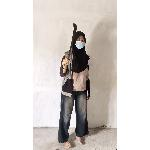Golok: (60, 22, 80, 68)
